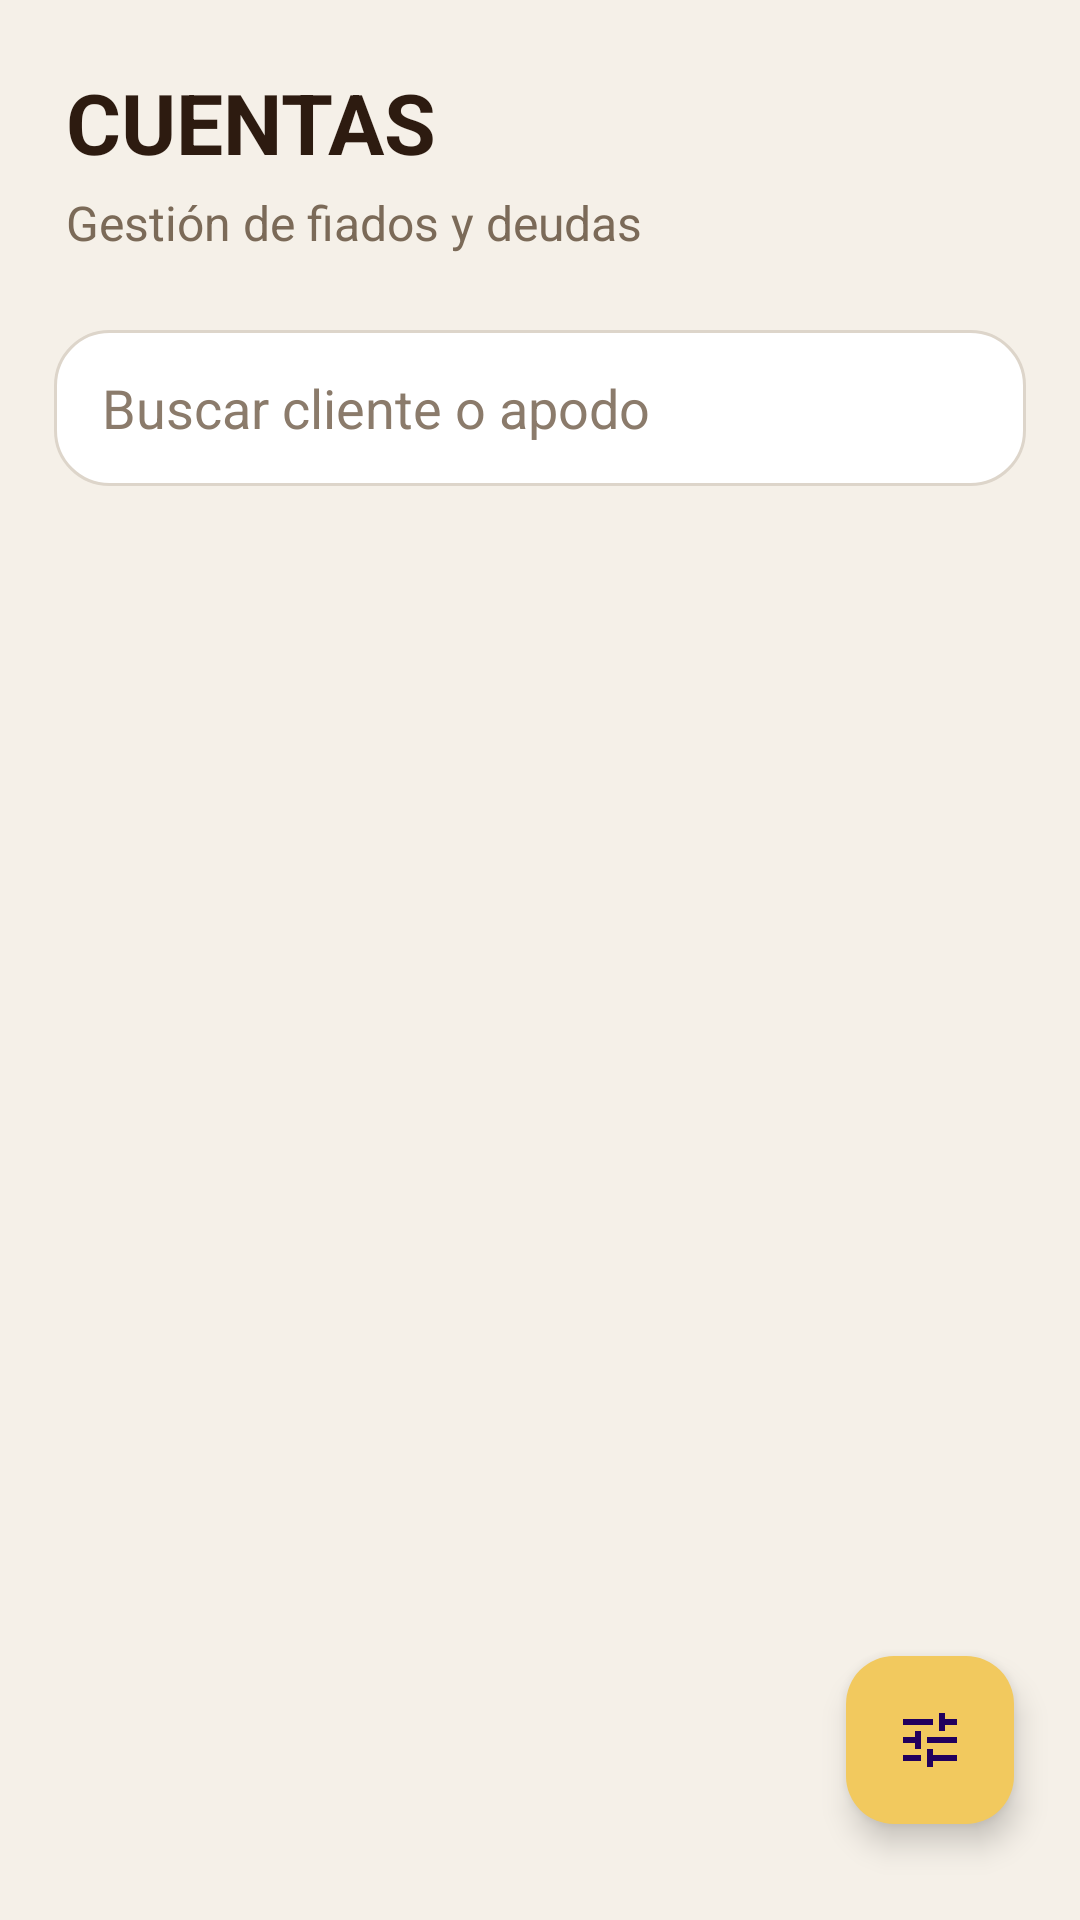

Screen size 1080px×1920px. Icon name, then its center in pixels as point (x, y):
tune: point (930, 1740)
